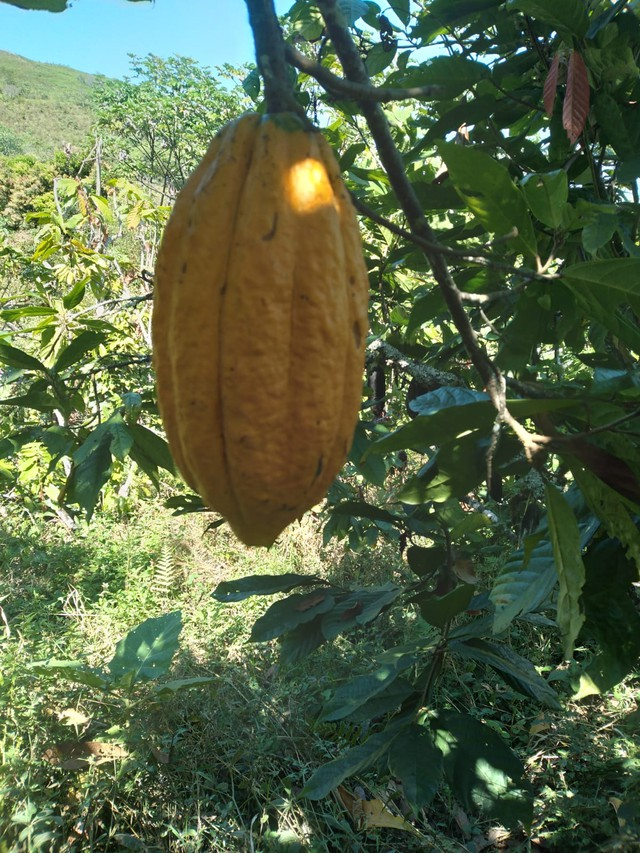Health: (146, 109, 377, 551)
